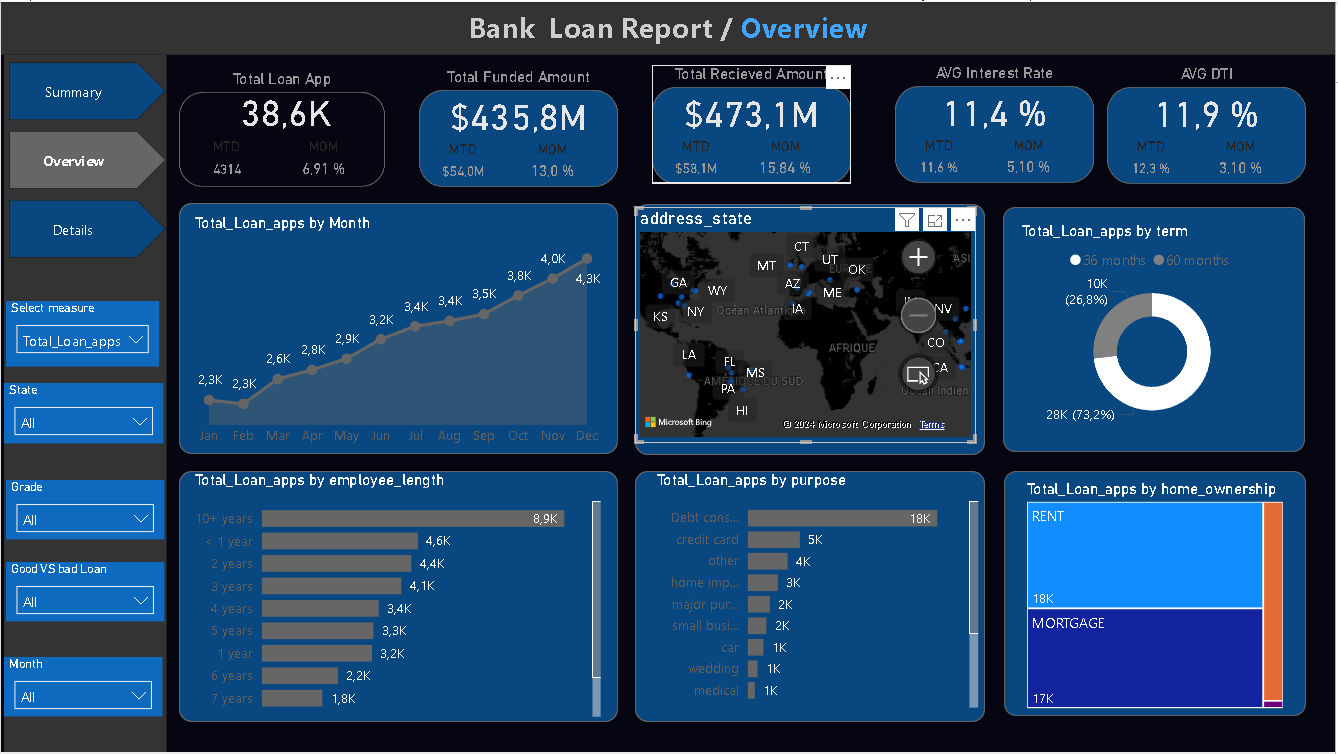

This screenshot's page, from the dashboard's own definition file:
{"tool":"powerbi","page":{"name":"Overview","canvas":[1280,720],"ordinal":1},"visuals":[{"type":"shape","box":[0,0,1280,50.6],"z":0},{"type":"shape","title":"AVG Interest Rate","box":[857.8,59.5,191.3,114.3],"z":0,"group":"g5"},{"type":"shape","title":"Total Recieved Amount ","box":[624.6,60.4,191.3,114.3],"z":0,"group":"g3"},{"type":"shape","title":"AVG DTI","box":[1061.5,60.4,191.3,114.3],"z":0,"group":"g4"},{"type":"shape","title":"Total Funded Amount","box":[401.2,63.4,191.3,114.3],"z":0,"group":"g2"},{"type":"shape","title":"Total Loan App","box":[170.9,64.8,197.8,112.3],"z":0,"group":"g1"},{"type":"shape","box":[2.9,50.9,156.4,668.8],"z":1000},{"type":"card","fields":{"Values":["bank-data.Total_Loan_apps"]},"box":[181.4,77,185.4,52.6],"z":1000,"group":"g1"},{"type":"card","fields":{"Values":["bank-data.YTD AVG¨_Rate"]},"box":[868.3,79.1,169.2,50.1],"z":1000,"group":"g5"},{"type":"card","fields":{"Values":["bank-data.YTM Total_Amount_Recived"]},"box":[635.1,80,169.2,50.1],"z":1000,"group":"g3"},{"type":"card","fields":{"Values":["bank-data.YTD AVG¨_DTI"]},"box":[1072,80,169.2,50.1],"z":1000,"group":"g4"},{"type":"card","fields":{"Values":["bank-data.Total _funded_Amount"]},"box":[411.7,83,169.2,50.1],"z":1000,"group":"g2"},{"type":"textbox","box":[408.5,0,463,50.6],"z":2000},{"type":"card","title":"MTD ","fields":{"Values":["bank-data.MTD AVG_Rate"]},"box":[868.3,129.1,64.1,44.6],"z":2000,"group":"g5"},{"type":"card","title":"MTD ","fields":{"Values":["bank-data.MTD Loan_App"]},"box":[181.4,129.6,70.2,46.9],"z":2000,"group":"g1"},{"type":"card","title":"MTD ","fields":{"Values":["bank-data.MTD Receved_Amount"]},"box":[635.1,130,64.1,44.6],"z":2000,"group":"g3"},{"type":"card","title":"MTD ","fields":{"Values":["bank-data.MTD AVG_DTI"]},"box":[1072,130,64.1,44.6],"z":2000,"group":"g4"},{"type":"card","title":"MTD ","fields":{"Values":["bank-data.MTD Fundden_AMount"]},"box":[411.7,133,64.1,44.6],"z":2000,"group":"g2"},{"type":"group","id":"g1","title":"Group 1","box":[170.9,64.8,197.8,112.3],"z":3000},{"type":"card","title":"MOM","fields":{"Values":["bank-data.MOM AVG_Rate"]},"box":[953.4,129.1,64.1,44.6],"z":3000,"group":"g5"},{"type":"card","title":"MOM","fields":{"Values":["bank-data.MOM Loan_App"]},"box":[274.6,129.6,70.2,46.9],"z":3000,"group":"g1"},{"type":"card","title":"MOM","fields":{"Values":["bank-data.MOM Total_Receved_amount"]},"box":[720.2,130,64.1,44.6],"z":3000,"group":"g3"},{"type":"card","title":"MOM","fields":{"Values":["bank-data.MOM AVG_DTI"]},"box":[1157.1,130,64.1,44.6],"z":3000,"group":"g4"},{"type":"card","title":"MOM","fields":{"Values":["bank-data.MOM Total_Funded_amount"]},"box":[496.8,133,64.1,44.6],"z":3000,"group":"g2"},{"type":"group","id":"g2","title":"Group 1","box":[401.2,63.4,190.8,114.3],"z":4000},{"type":"group","id":"g3","title":"Group 1","box":[624.6,60.4,190.9,113.2],"z":5000},{"type":"group","id":"g4","title":"Group 1","box":[1061.5,60.4,190.3,113.8],"z":6000},{"type":"group","id":"g5","title":"Group 1","box":[857.8,59.5,190.9,114.2],"z":7000},{"type":"shape","box":[170.8,192.9,421.2,240.8],"z":8000},{"type":"slicer","title":"State","fields":{"Values":["bank-data.address_state"]},"box":[2.9,365.6,152.6,57.6],"z":9000},{"type":"slicer","title":"Grade","fields":{"Values":["bank-data.grade"]},"box":[4.8,458.7,151.6,56.6],"z":10000},{"type":"slicer","title":"Good VS bad Loan","fields":{"Values":["bank-data.Good vs Bad Loan"]},"box":[4.8,537.3,151.6,56.6],"z":11000},{"type":"slicer","title":"Month","fields":{"Values":["Date_Table.Month"]},"box":[2.9,628.5,151.6,56.6],"z":12000},{"type":"areaChart","fields":{"Y":["bank-data.Total_Loan_apps"],"Category":["Date_Table.Month"]},"box":[181.3,203.4,399.2,230.3],"z":13000},{"type":"slicer","title":"Select measure","fields":{"Values":["select Measure.select Measure"]},"box":[4.8,286.9,146.8,63.3],"z":14000},{"type":"shape","box":[608.3,193.8,335.8,240.8],"z":15000},{"type":"map","fields":{"Category":["bank-data.address_state"]},"box":[608.3,196.7,327.2,226.4],"z":16000},{"type":"shape","box":[961.4,196.7,289.8,235.1],"z":17000},{"type":"donutChart","fields":{"Y":["bank-data.Total_Loan_apps"],"Category":["bank-data.term"]},"box":[974.9,211.1,259.1,204.4],"z":18000},{"type":"shape","box":[170.8,450,421.2,240.8],"z":19000},{"type":"barChart","fields":{"Y":["bank-data.Total_Loan_apps"],"Category":["bank-data.emp_length"]},"box":[181.3,450,399.2,240.8],"z":20000},{"type":"shape","box":[608.3,450,335.8,240.8],"z":21000},{"type":"barChart","fields":{"Y":["bank-data.Total_Loan_apps"],"Category":["bank-data.purpose"]},"box":[624.6,450,317.6,232.2],"z":22000},{"type":"shape","box":[962.4,450,289.8,235.1],"z":23000},{"type":"treemap","fields":{"Values":["bank-data.Total_Loan_apps"],"Group":["bank-data.home_ownership"]},"box":[979.7,458.7,255.2,223.6],"z":24000},{"type":"pageNavigator","box":[7.7,57.6,151.6,188.1],"z":25000}]}

Visuals, with their boxes in screenshot pixels (x1, y1, x2, y2), scaled from the page's 1280x720 canvas onto the 1338x754 screenshot:
shape: (left=0, top=0, right=1337, bottom=53)
"AVG Interest Rate" shape: (left=897, top=62, right=1097, bottom=182)
"Total Recieved Amount " shape: (left=653, top=63, right=853, bottom=183)
"AVG DTI" shape: (left=1110, top=63, right=1310, bottom=183)
"Total Funded Amount" shape: (left=419, top=66, right=619, bottom=186)
"Total Loan App" shape: (left=179, top=68, right=385, bottom=185)
shape: (left=3, top=53, right=167, bottom=753)
card - bank-data.Total_Loan_apps: (left=190, top=81, right=383, bottom=136)
card - bank-data.YTD AVG¨_Rate: (left=908, top=83, right=1085, bottom=135)
card - bank-data.YTM Total_Amount_Recived: (left=664, top=84, right=841, bottom=136)
card - bank-data.YTD AVG¨_DTI: (left=1121, top=84, right=1297, bottom=136)
card - bank-data.Total _funded_Amount: (left=430, top=87, right=607, bottom=139)
textbox: (left=427, top=0, right=911, bottom=53)
"MTD " card: (left=908, top=135, right=975, bottom=182)
"MTD " card: (left=190, top=136, right=263, bottom=185)
"MTD " card: (left=664, top=136, right=731, bottom=183)
"MTD " card: (left=1121, top=136, right=1188, bottom=183)
"MTD " card: (left=430, top=139, right=497, bottom=186)
"Group 1" group: (left=179, top=68, right=385, bottom=185)
"MOM" card: (left=997, top=135, right=1064, bottom=182)
"MOM" card: (left=287, top=136, right=360, bottom=185)
"MOM" card: (left=753, top=136, right=820, bottom=183)
"MOM" card: (left=1210, top=136, right=1277, bottom=183)
"MOM" card: (left=519, top=139, right=586, bottom=186)
"Group 1" group: (left=419, top=66, right=619, bottom=186)
"Group 1" group: (left=653, top=63, right=852, bottom=182)
"Group 1" group: (left=1110, top=63, right=1309, bottom=182)
"Group 1" group: (left=897, top=62, right=1096, bottom=182)
shape: (left=179, top=202, right=619, bottom=454)
"State" slicer: (left=3, top=383, right=163, bottom=443)
"Grade" slicer: (left=5, top=480, right=163, bottom=540)
"Good VS bad Loan" slicer: (left=5, top=563, right=163, bottom=622)
"Month" slicer: (left=3, top=658, right=162, bottom=717)
areaChart - bank-data.Total_Loan_apps x Date_Table.Month: (left=190, top=213, right=607, bottom=454)
"Select measure" slicer: (left=5, top=300, right=158, bottom=367)
shape: (left=636, top=203, right=987, bottom=455)
map - bank-data.address_state: (left=636, top=206, right=978, bottom=443)
shape: (left=1005, top=206, right=1308, bottom=452)
donutChart - bank-data.Total_Loan_apps x bank-data.term: (left=1019, top=221, right=1290, bottom=435)
shape: (left=179, top=471, right=619, bottom=723)
barChart - bank-data.Total_Loan_apps x bank-data.emp_length: (left=190, top=471, right=607, bottom=723)
shape: (left=636, top=471, right=987, bottom=723)
barChart - bank-data.Total_Loan_apps x bank-data.purpose: (left=653, top=471, right=985, bottom=714)
shape: (left=1006, top=471, right=1309, bottom=717)
treemap - bank-data.Total_Loan_apps x bank-data.home_ownership: (left=1024, top=480, right=1291, bottom=715)
pageNavigator: (left=8, top=60, right=167, bottom=257)
